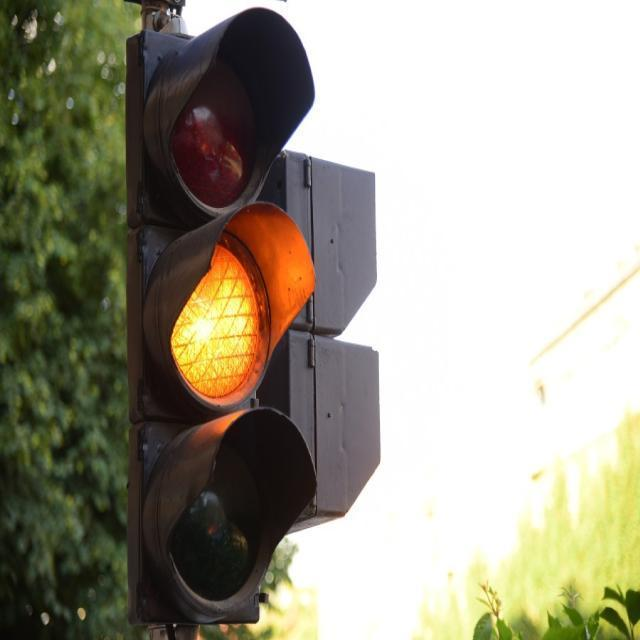yellow_light: (127, 9, 316, 639)
